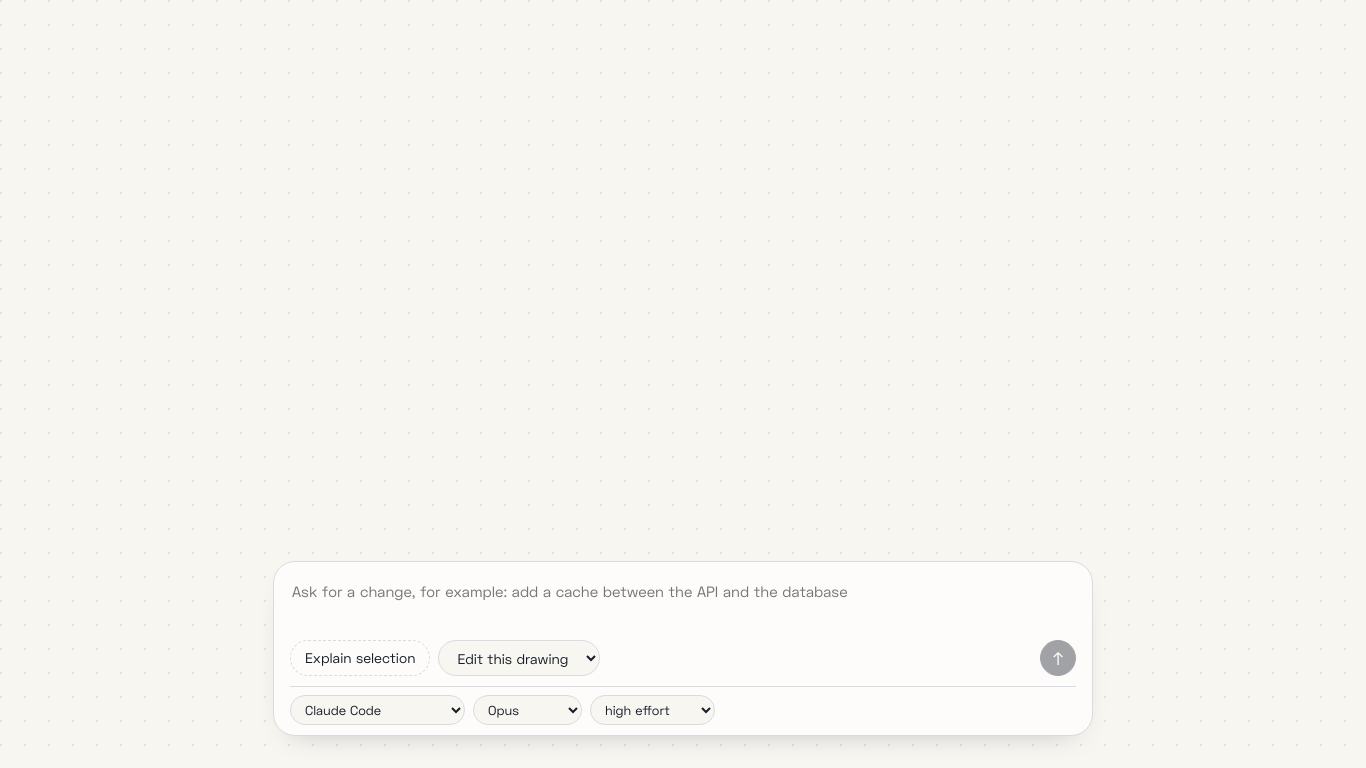
it: Assistant › reenables sending after a settings save fails
expect the dropdown named "Effort" is shown: met, box [590,695,715,725]
Type "Add a cache" into the text box named "Message the assistant".
click(683, 603); type("Add a cache")  # box [290,576,1076,630]
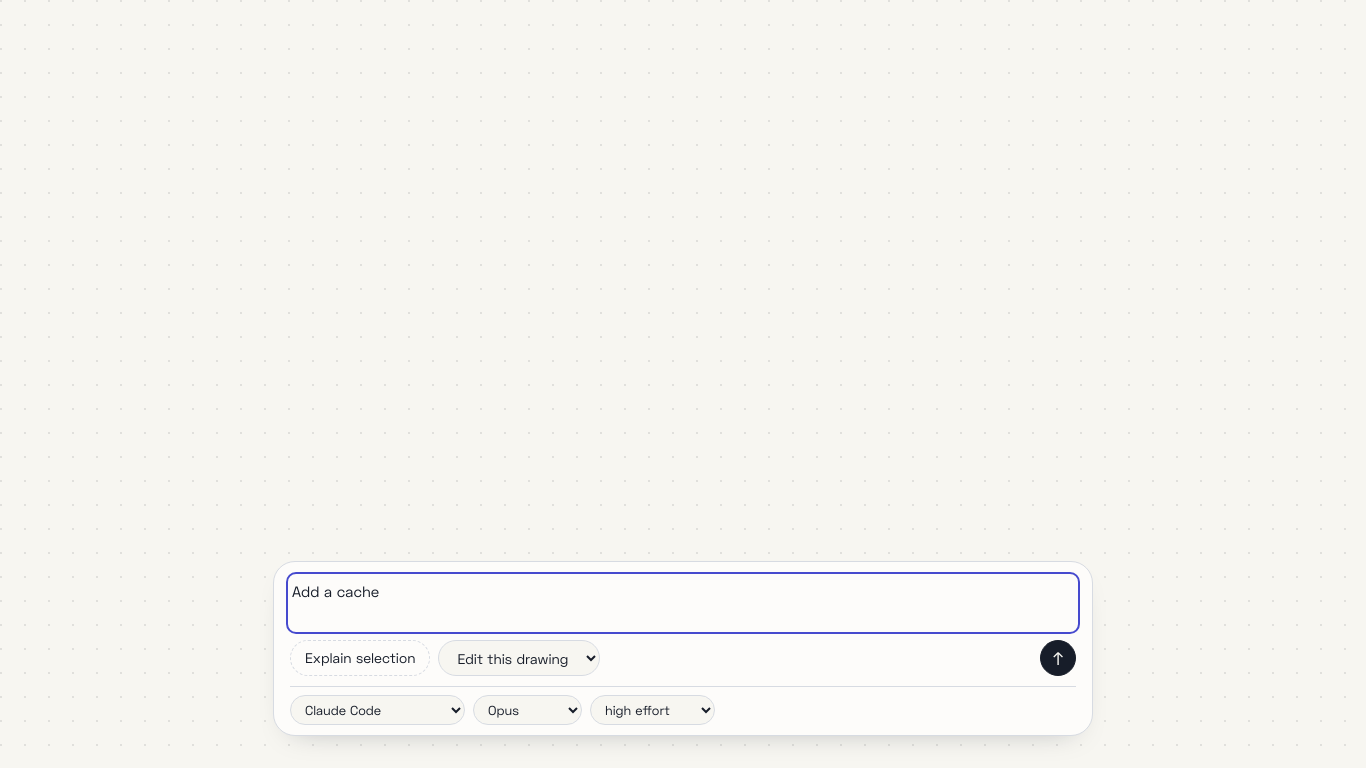
Select "low effort" in the dropdown named "Effort" at (652, 710), box [590,695,715,725]
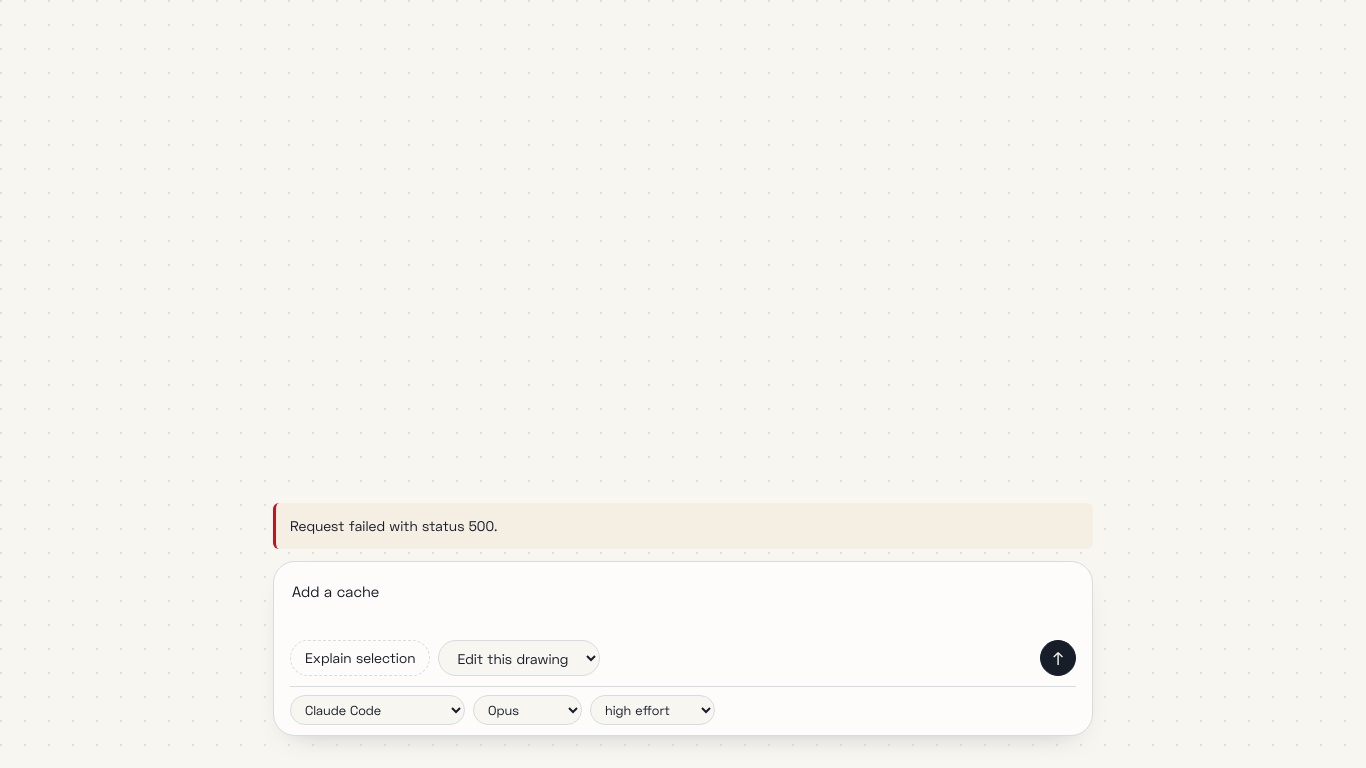
expect the button named "Send" is enabled: met, box [1040,640,1076,676]
expect the message shows "Request failed with status 500": met, box [290,517,498,534]
